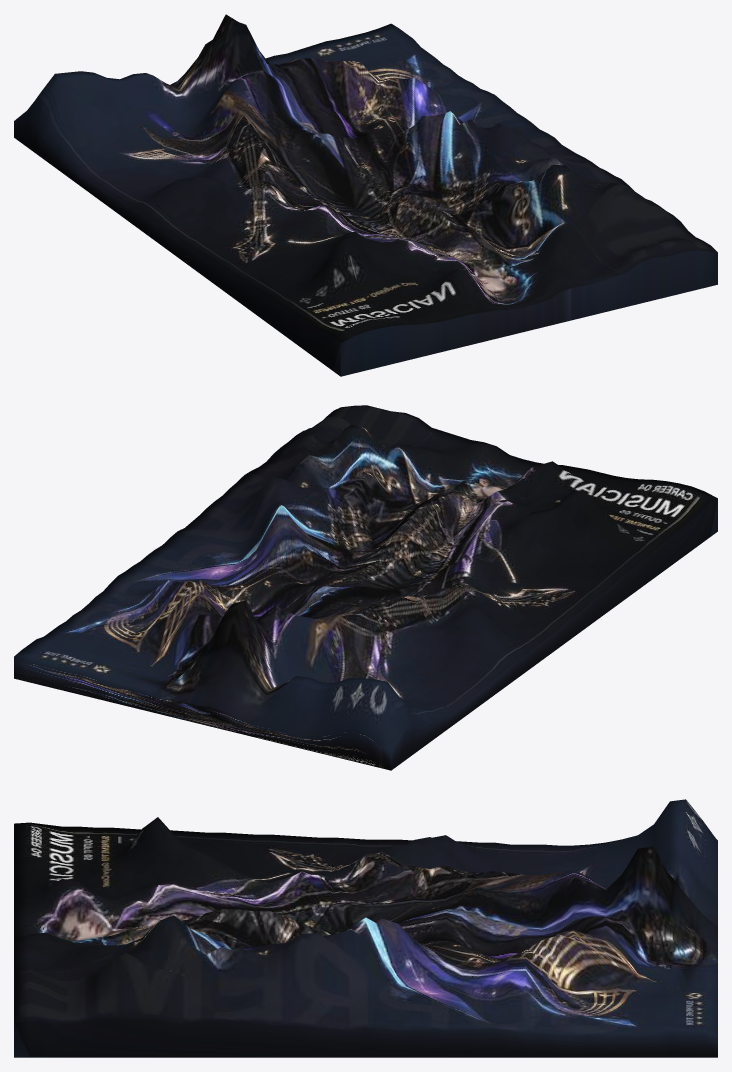
File: CAREER_04_Outfit_05_Supreme.glb
3 views of the same model, one above another, from view 1: azimuth 30°, elevation 25°; view 2: azimuth 150°, elevation 25°; view 3: azimuth 270°, elevation 25° (orthographic). The views are drawn at different scales.
Parts seen in each view (by area): view 1: CAREER_04_Outfit_05_Supreme; view 2: CAREER_04_Outfit_05_Supreme; view 3: CAREER_04_Outfit_05_Supreme.
Boxes of the visible parts, box(x1,y1,x2,y2) form: CAREER_04_Outfit_05_Supreme: box(14, 14, 717, 376); CAREER_04_Outfit_05_Supreme: box(14, 405, 717, 770); CAREER_04_Outfit_05_Supreme: box(14, 799, 717, 1057).
Size of the model in its own units: 2 by 0.51 by 3.
1 material, 1 textured.
